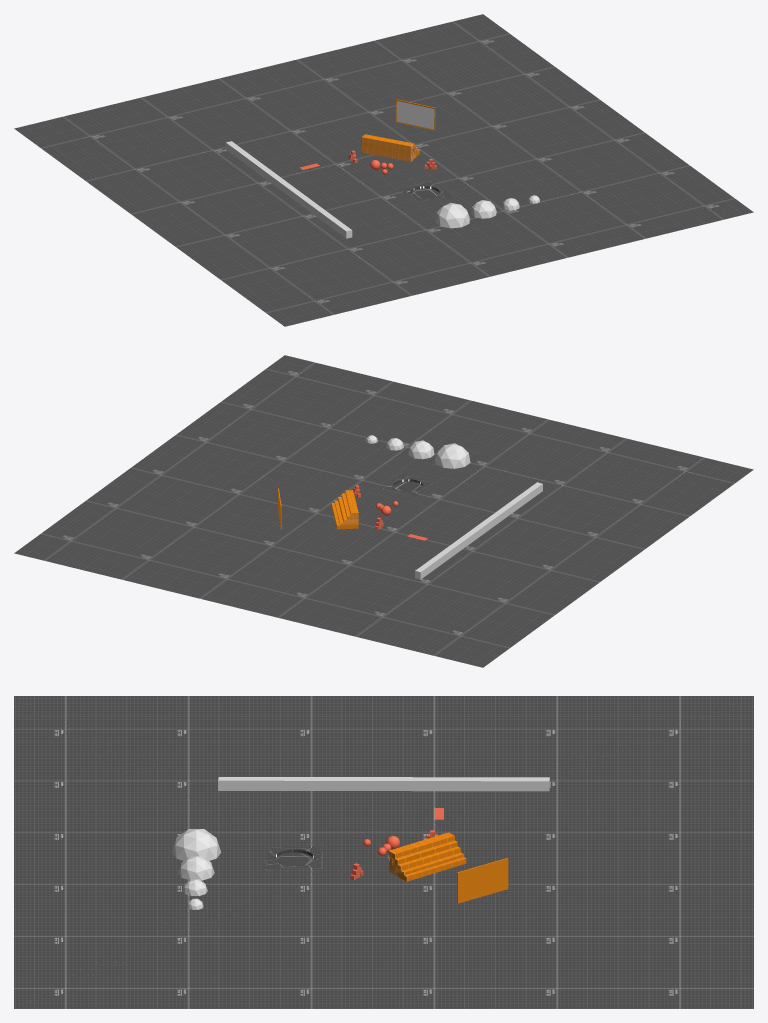
The model's file is level.glb.
The picture shows the model from 3 angles, top to bottom: view 1: azimuth 30°, elevation 25°; view 2: azimuth 150°, elevation 25°; view 3: azimuth 270°, elevation 25°; orthographic projection. The views are drawn at different scales.
Visible parts, largest first — view 1: Ground, Icosphere.001, Walls.Chairs, TV, Icosphere; view 2: Ground, Icosphere.001, Walls.Chairs, Icosphere; view 3: Ground, Icosphere.001, Walls.Chairs, TV_BORDER, Icosphere.
Boxes of the visible parts, x1,y1,x2,y2 form: Ground: [14, 14, 753, 326]; Icosphere.001: [225, 141, 496, 238]; Walls.Chairs: [361, 134, 419, 161]; TV: [396, 101, 434, 129]; Icosphere: [435, 202, 470, 228]; Ground: [14, 355, 753, 667]; Icosphere.001: [408, 440, 542, 579]; Walls.Chairs: [331, 490, 358, 529]; Icosphere: [435, 443, 470, 468]; Ground: [14, 696, 753, 1008]; Icosphere.001: [178, 777, 549, 880]; Walls.Chairs: [388, 832, 466, 881]; TV_BORDER: [457, 858, 508, 903]; Icosphere: [171, 829, 221, 860].
Bounding box in the file's own units: 161 × 13.27 × 161.
Materials: 6 (6 with a texture image).
